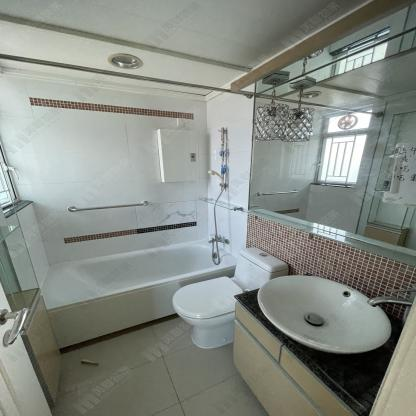Bathtub: (37, 239, 238, 351)
Toilet: (170, 245, 290, 347)
Toilet Sink: (256, 276, 395, 354)
Water Heater: (156, 128, 200, 183)
